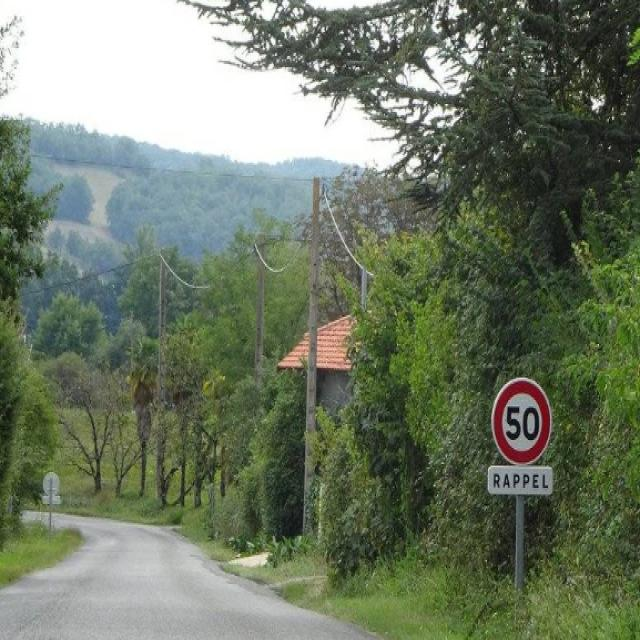speed_50: (491, 373, 553, 468)
